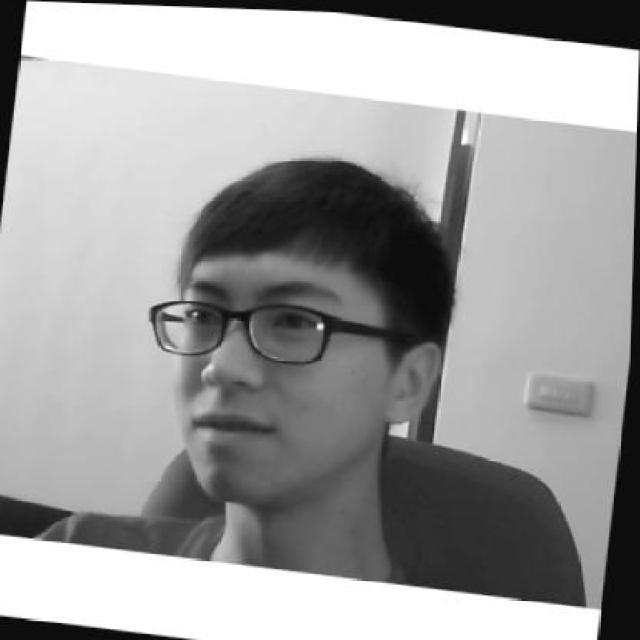attentif: (128, 133, 466, 525)
